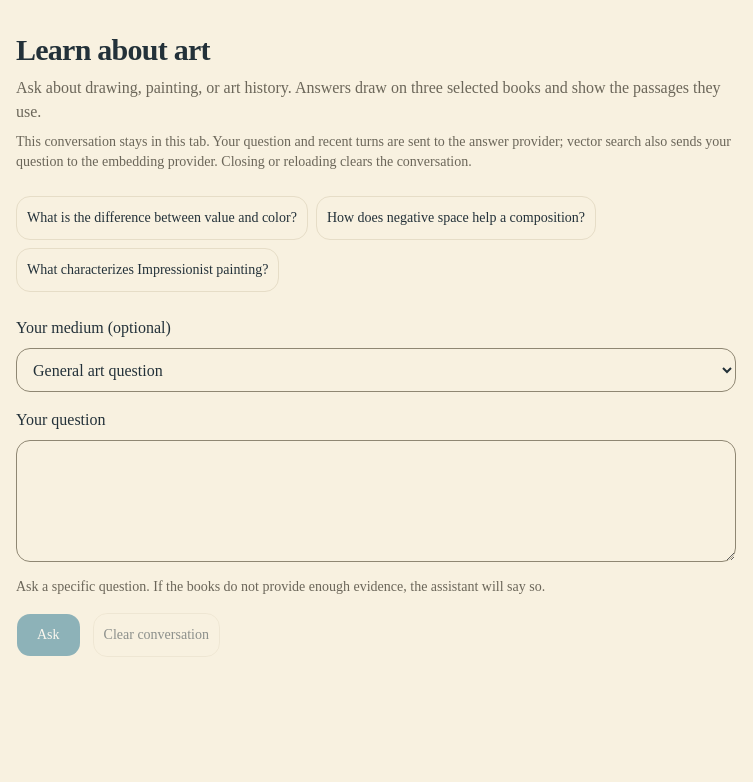
Test: learning chat › does not announce a previous answer as ready after a failed follow-up
Type "What is value?" into the text box labelled "Your question" at (376, 501), box [16,440,736,562]
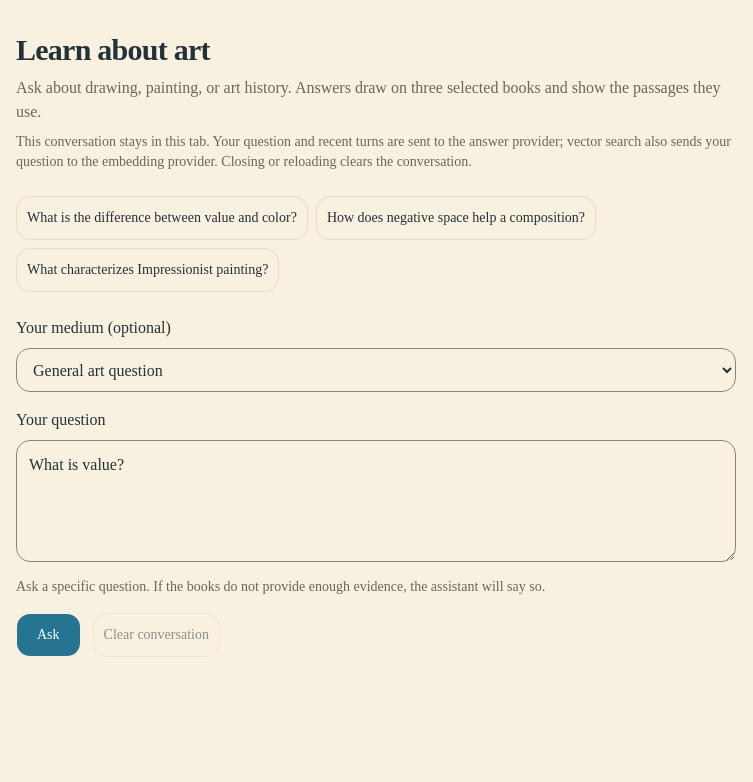
Click the button "Ask" at (48, 635), box [16,613,81,657]
(page scrolled)
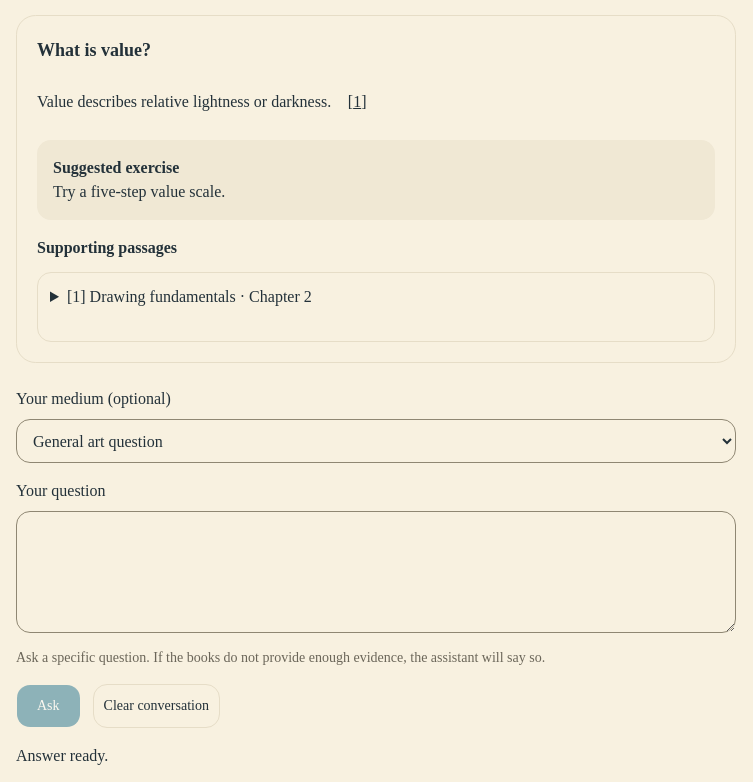
Now the text "Value describes relative lightness or darkness." is shown, box [37,93,331,110]
Type "What is value?" into the text box labelled "Your question" at (376, 572), box [16,511,736,633]
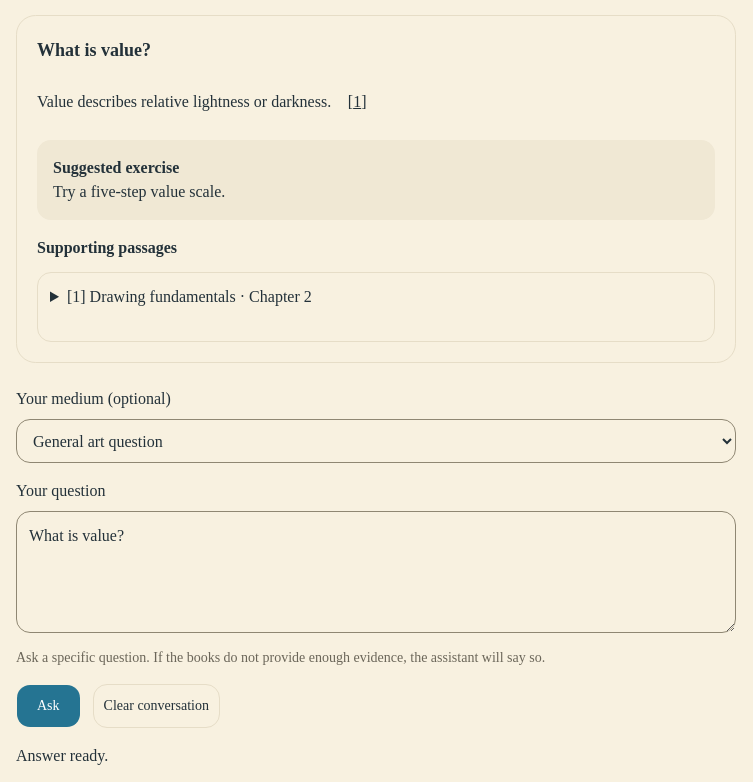
Click the button "Ask" at (48, 706), box [16,684,81,728]
(page scrolled)
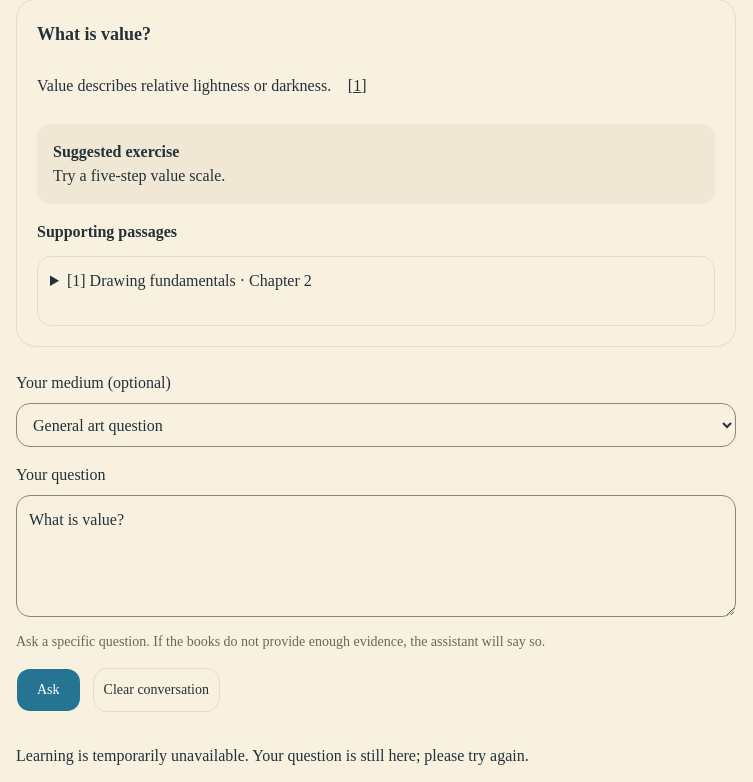
Now the message is shown, box [16,747,529,764]
